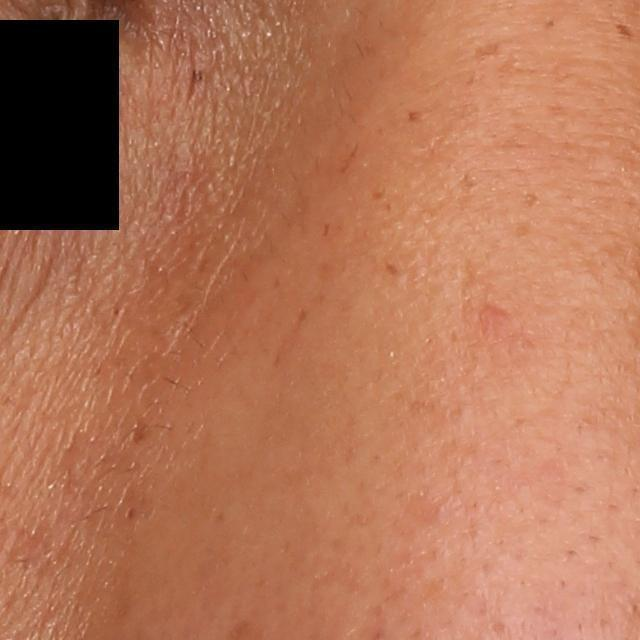comedo: (122, 504, 139, 524)
melasma: (127, 415, 160, 447), (474, 39, 505, 64), (405, 105, 428, 125)
